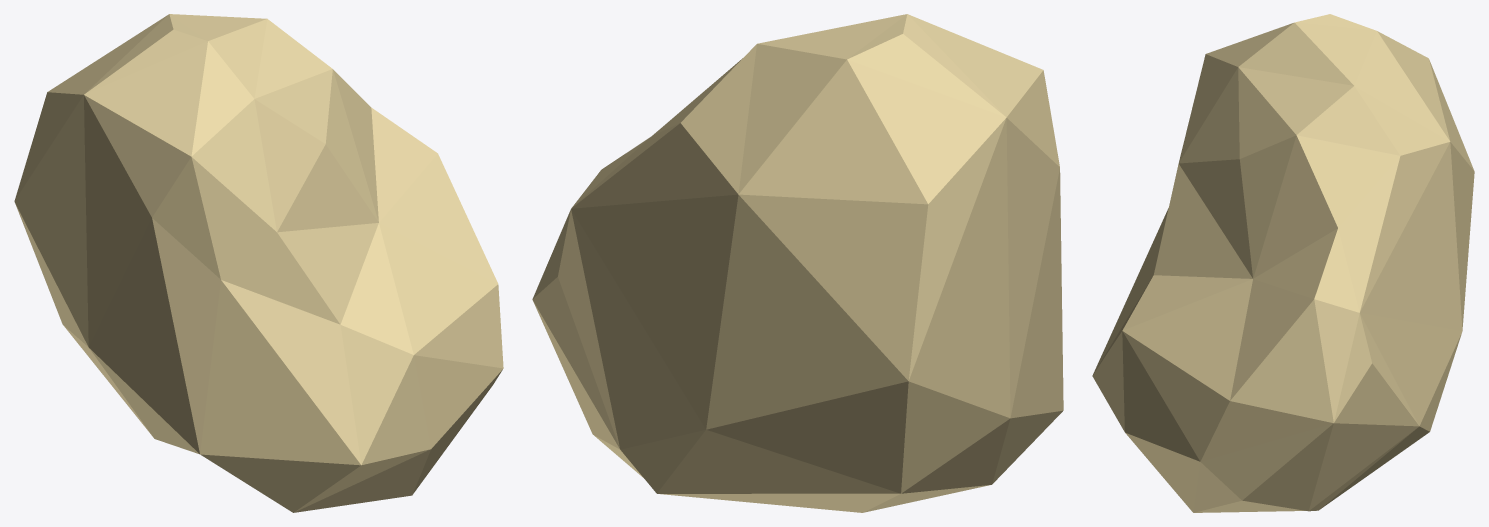
The model's file is Rock (64).fbx.
3 renders of one model, left to right at view 1: azimuth 30°, elevation 25°; view 2: azimuth 150°, elevation 25°; view 3: azimuth 270°, elevation 25°, orthographic. The views are drawn at different scales.
Parts seen in each view (by area): view 1: Asteroid63; view 2: Asteroid63; view 3: Asteroid63.
Boxes of the visible parts, <box> form: Asteroid63: <box>14,14,503,512</box>; Asteroid63: <box>532,14,1063,512</box>; Asteroid63: <box>1092,14,1474,512</box>.
Bounding box in the file's own units: 100 × 111 × 91.24.
